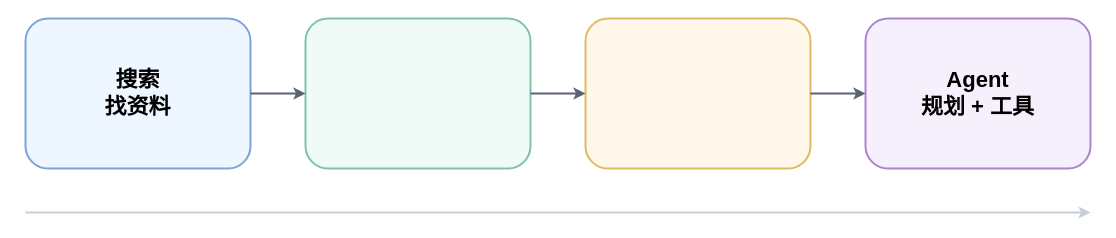
Some shapes in this 1116 by 238 pixel diagram are drawn without their labels. The box of each missing label's shape, as (x1, y1, x2, y2) in pixels:
RAG 检索 + 生成: (584, 17, 811, 169)
知识库问答 基于固定知识库回答: (304, 17, 531, 169)
